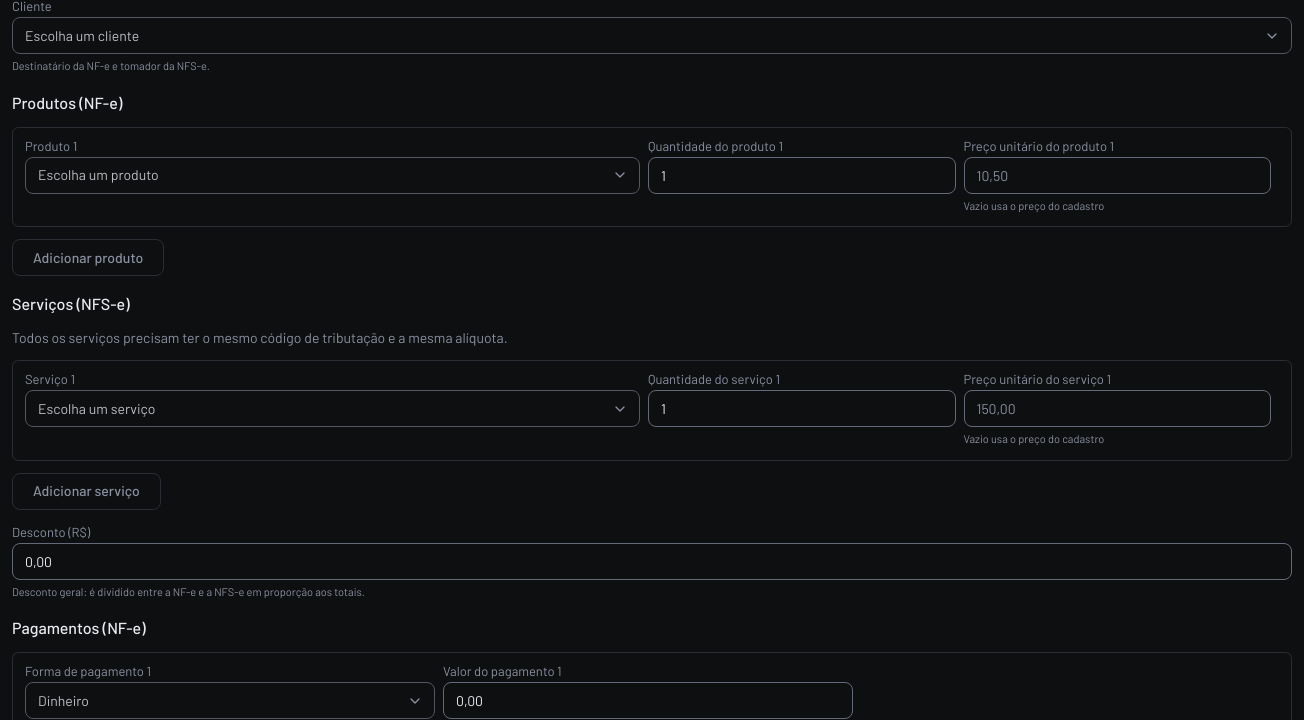
VendaForm › mostra a prévia do rateio do desconto entre a NF-e e a NFS-e
Select "Maria Teste" in the dropdown labelled "Cliente" at (652,36), box [12,17,1292,54]
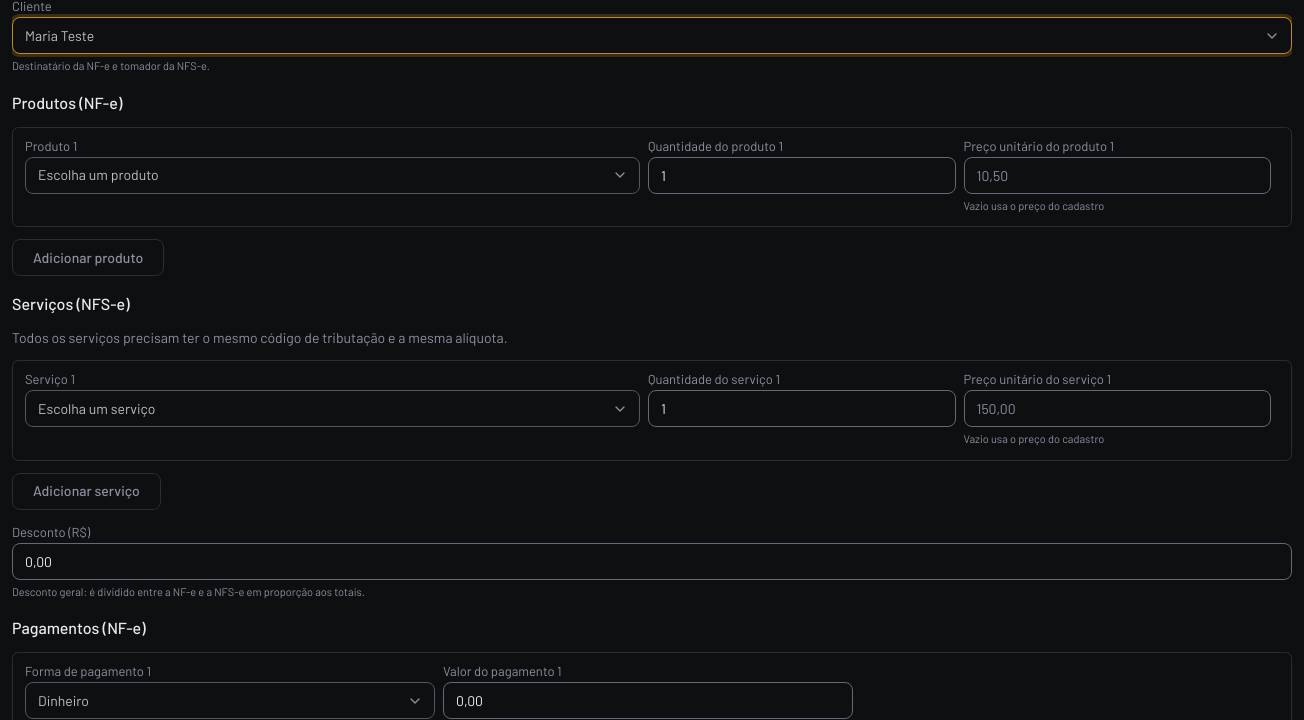
Select "Filtro de óleo" in the dropdown labelled "Produto 1" at (332,175), box [25,156,640,194]
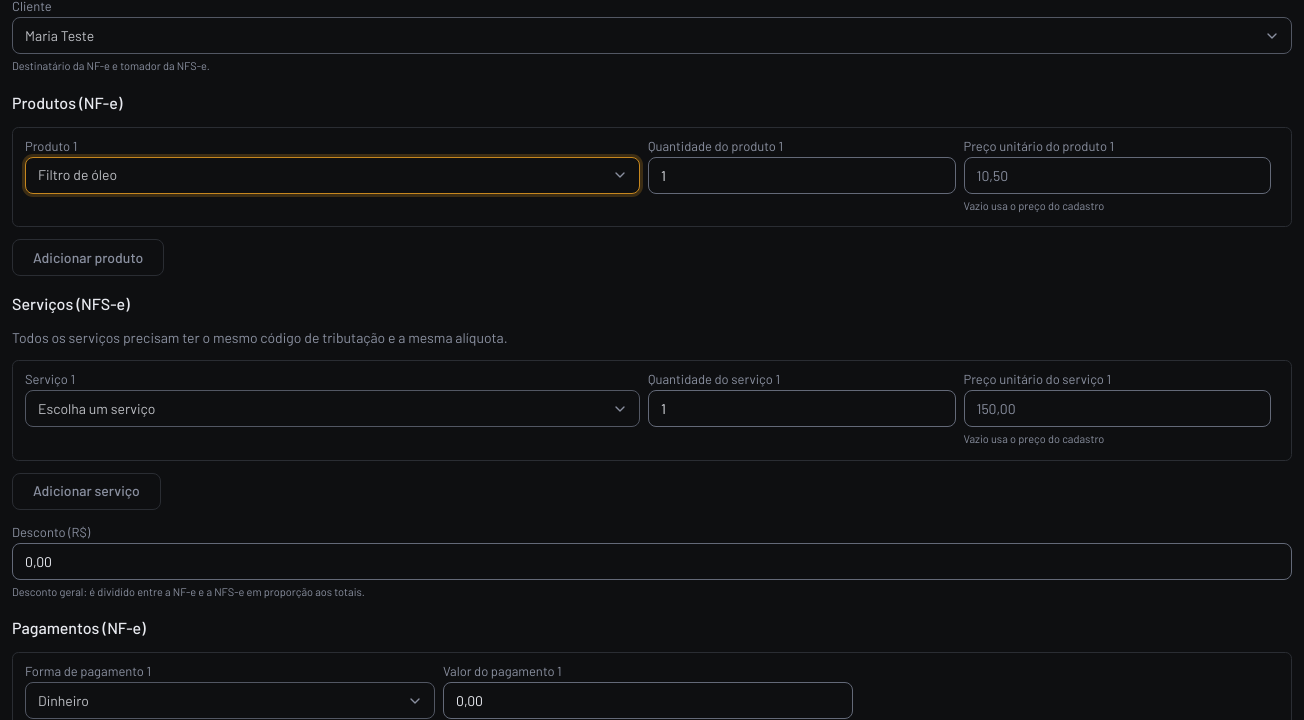
Select "Troca de óleo" in the dropdown labelled "Serviço 1" at (332,408), box [25,390,640,427]
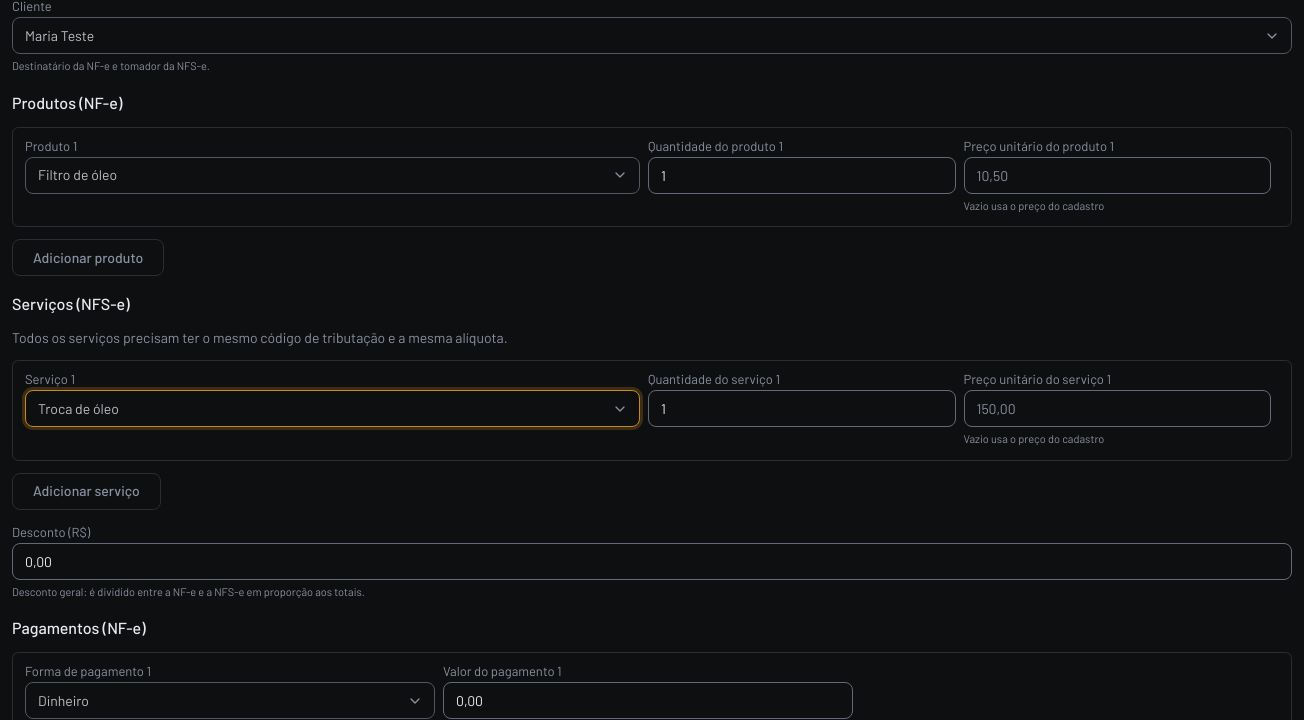
Replace the text in the field labelled "Desconto (R$)" with "16,00" at (652,561), box [12,542,1292,580]
(page scrolled)
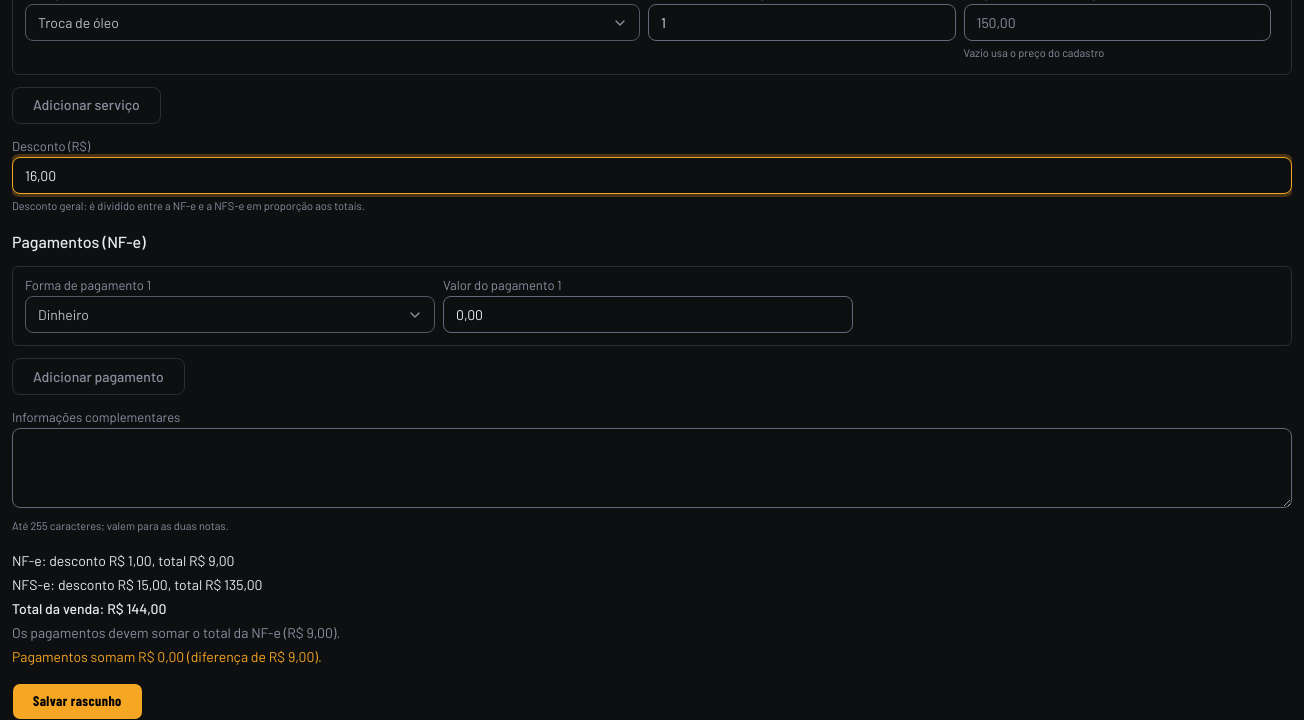
Now the text "NF-e: desconto R$ 1,00, total R$ 9,00" is shown, box [12,552,234,568]
Now the text "NFS-e: desconto R$ 15,00, total R$ 135,00" is shown, box [12,576,262,592]
Now the text "Total da venda: R$ 144,00" is shown, box [12,600,166,616]
